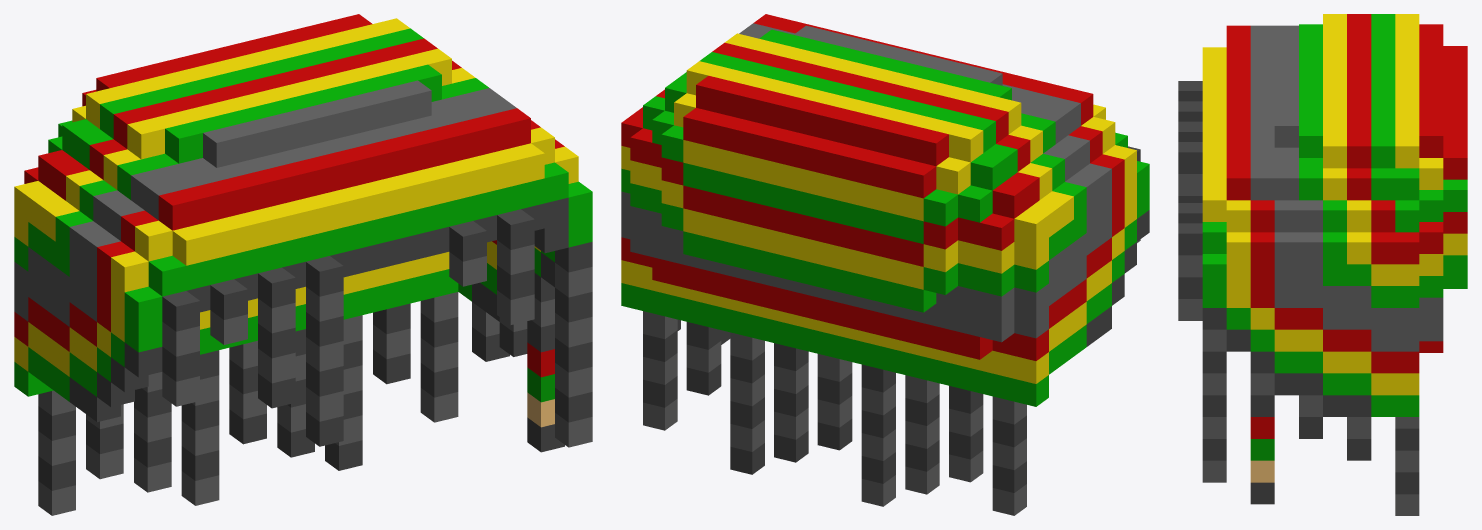
Rendered from accessories_head_rasta.glb.
The picture shows the model from 3 angles, left to right: view 1: azimuth 30°, elevation 25°; view 2: azimuth 150°, elevation 25°; view 3: azimuth 270°, elevation 25°; orthographic projection. The views are drawn at different scales.
Visible parts, largest first — view 1: model_0; view 2: model_0; view 3: model_0.
Boxes of the visible parts, left/top/right/bottom form: model_0: left=14, top=14, right=592, bottom=515; model_0: left=621, top=14, right=1149, bottom=515; model_0: left=1178, top=14, right=1467, bottom=515.
Bounding box in the file's own units: 19 × 17 × 12.
